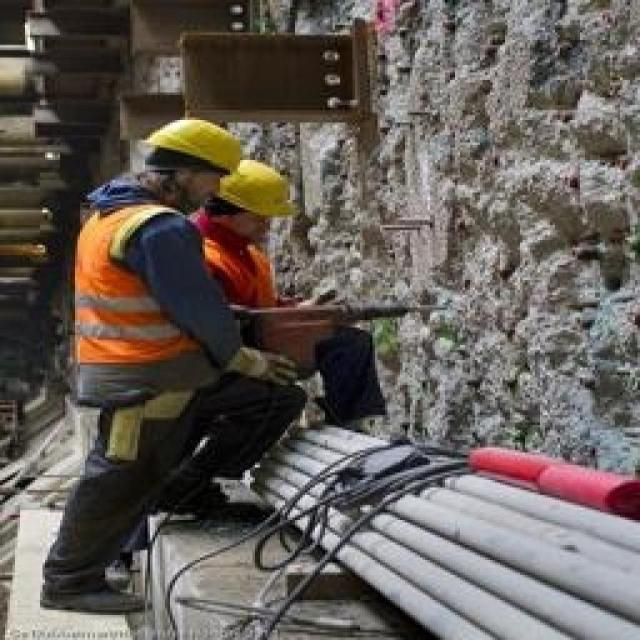Helmet: (142, 94, 250, 198), (220, 148, 315, 230)
Safety Vest: (63, 194, 215, 484), (192, 229, 300, 383)
